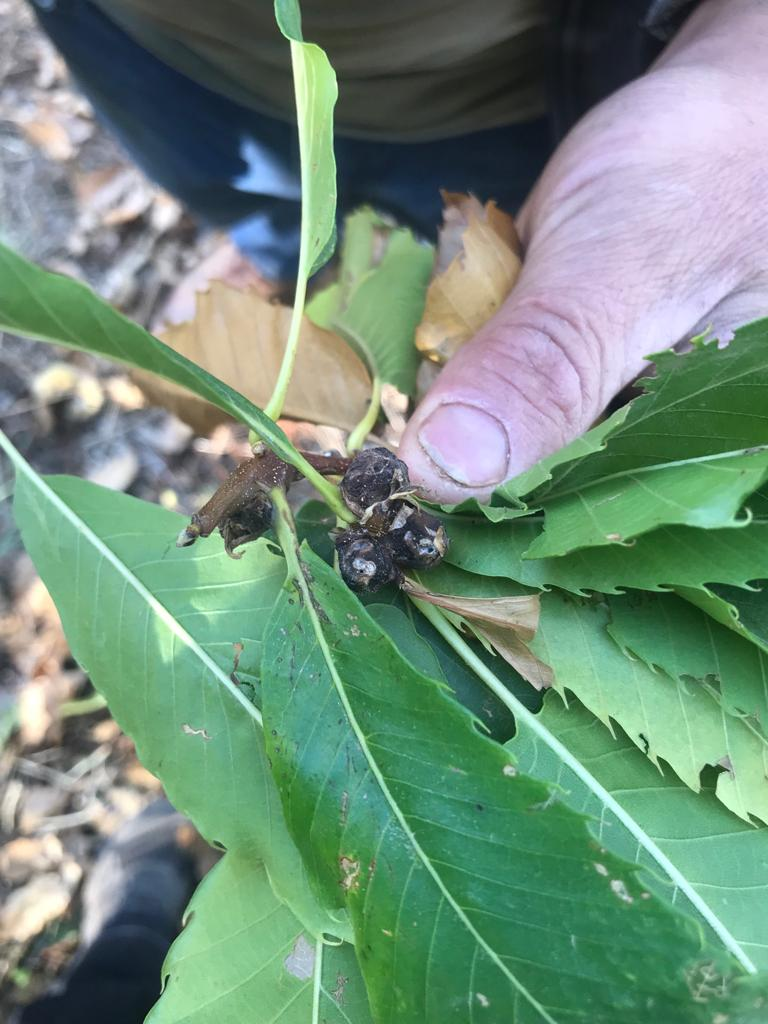galarisi: (294, 452, 456, 659)
